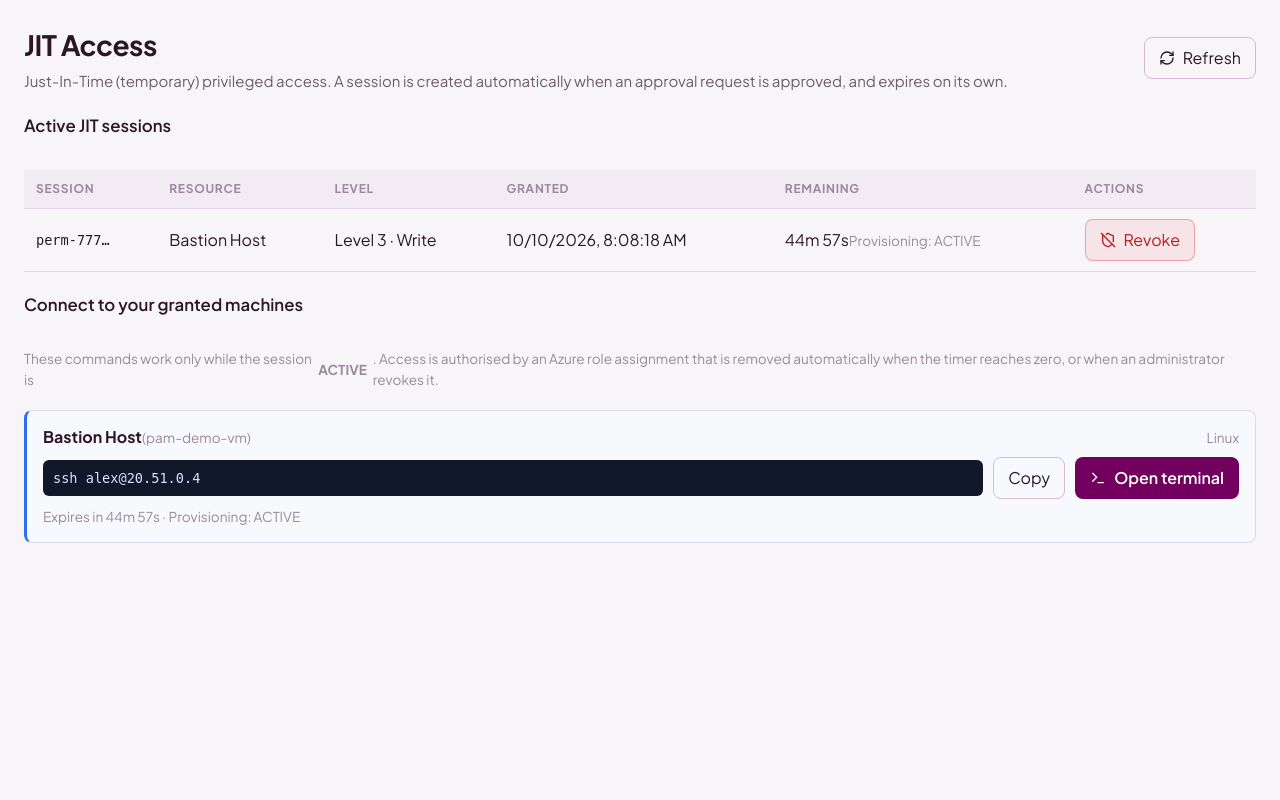
Test case: JIT Access › explains the missing SSH key instead of opening a dead terminal
This screenshot has width=1280, height=800.
Click the button "Open terminal" at (1157, 478), box [1075,457,1239,499]
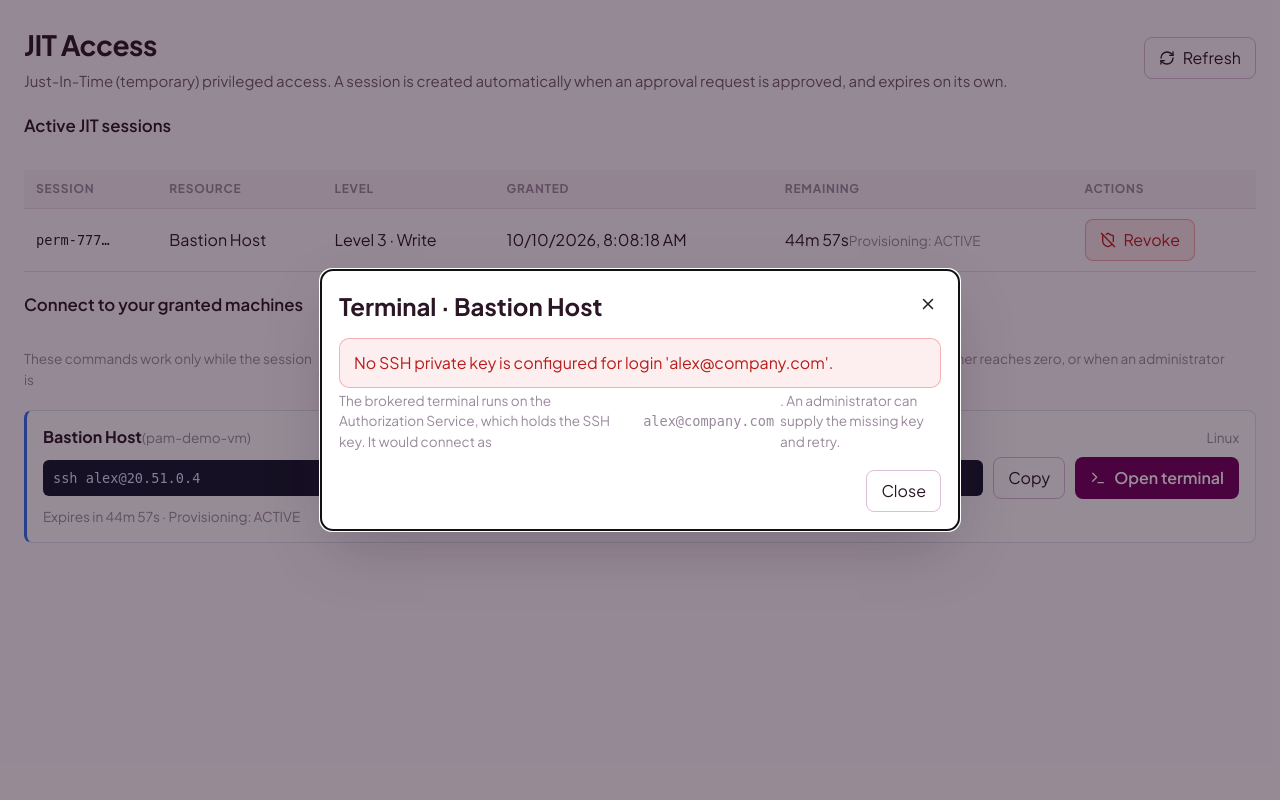
Expected: the text "No SSH private key is configured for login 'alex@company.com'." is shown, [339,338,941,388]
